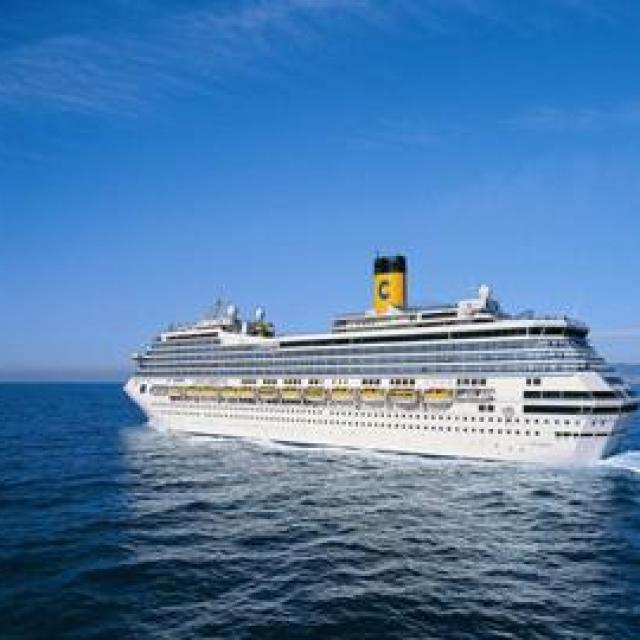passenger ship: (118, 248, 628, 466)
